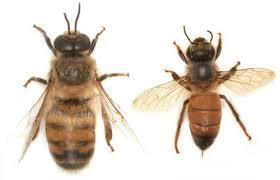Apis-mellifera-scutellata: (14, 1, 131, 180), (136, 16, 275, 163)
